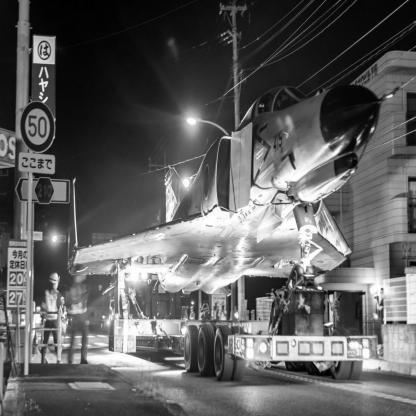F4: (68, 86, 402, 320)
